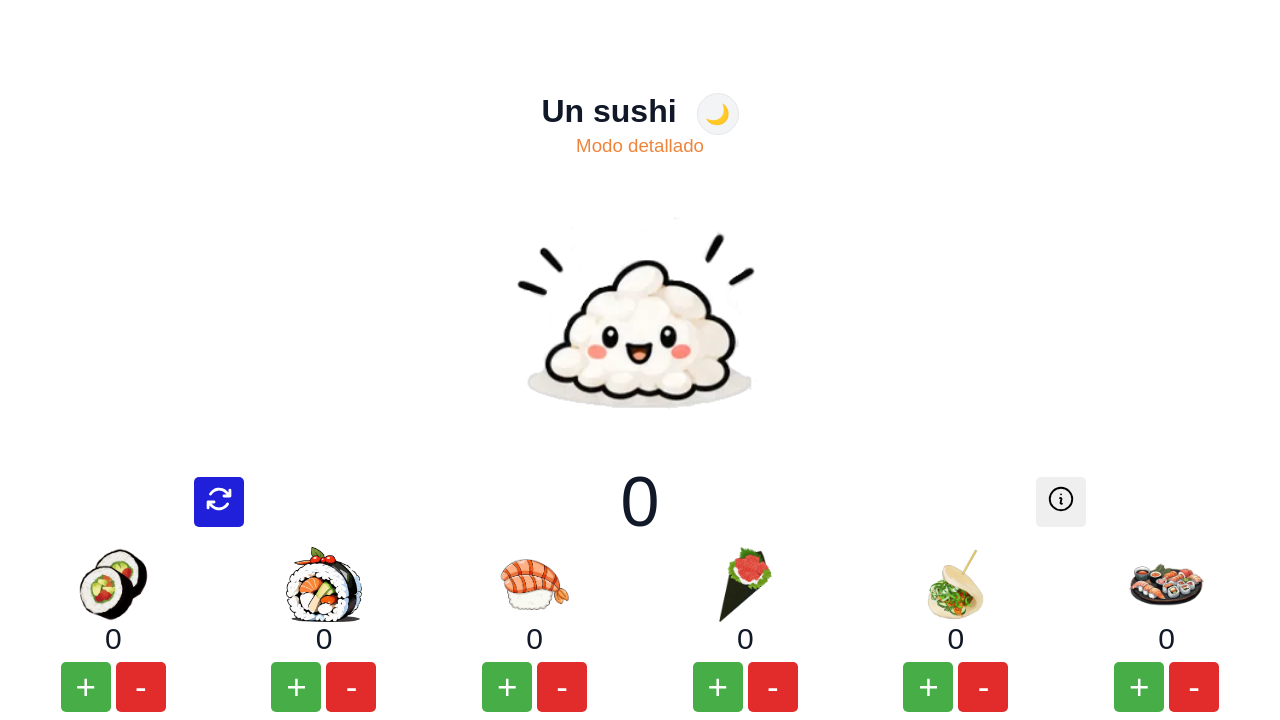
SushiDetailedCounter › should aument counter and niguiri when we pulse add
(page scrolled)
Expected: the 4th text "0" is shown, top-left (526, 622), bottom-right (543, 656)
Click the 3rd button "+" at (507, 687), box top-left (482, 662), bottom-right (532, 712)
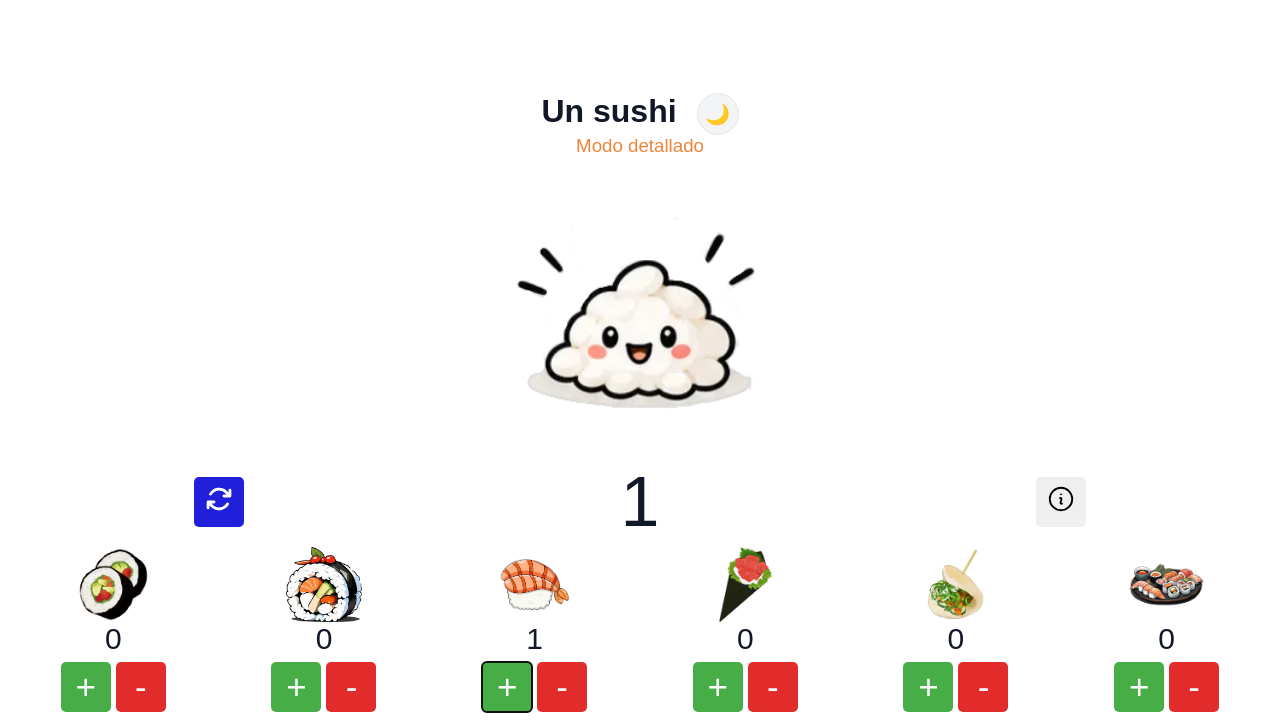
Expected: the text with id "detailed-counter" is shown, top-left (620, 462), bottom-right (659, 542)
Now the text with id "detailed-counter" reads "1", box top-left (620, 463), bottom-right (659, 541)
Click the 3rd button "+" at (507, 687), box top-left (482, 662), bottom-right (532, 712)
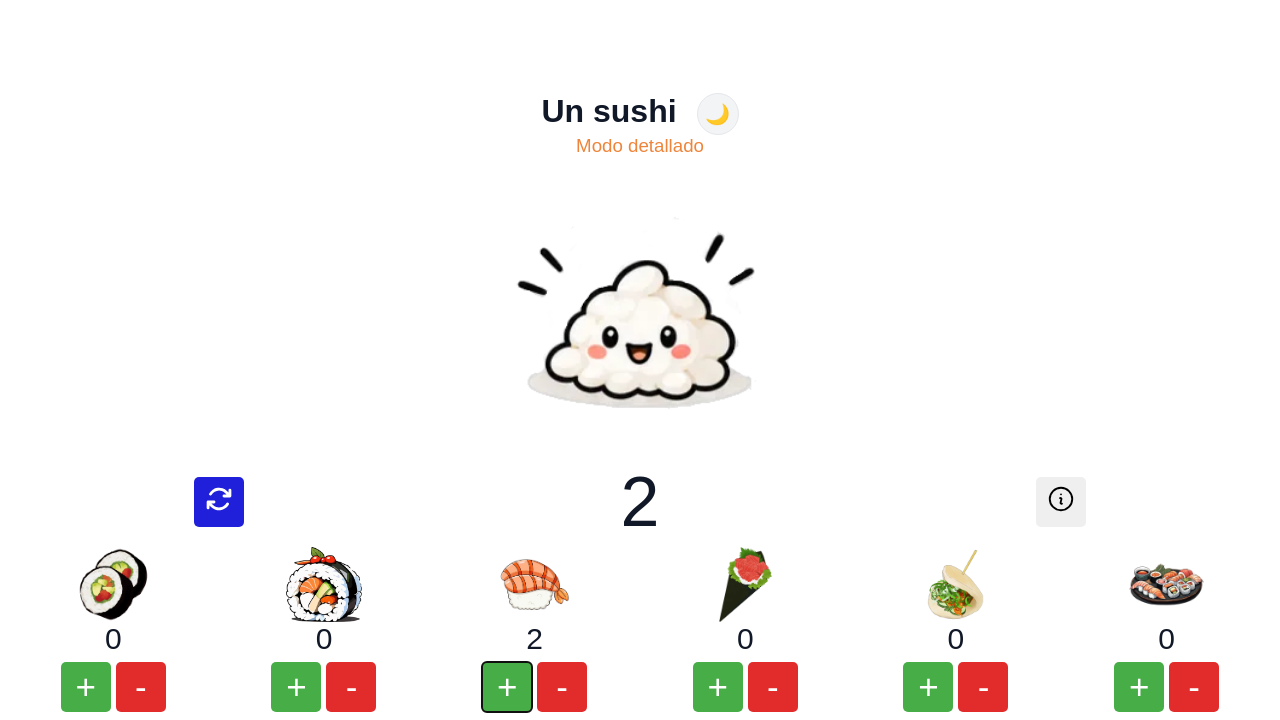
Click the 3rd button "+" at (507, 687), box top-left (482, 662), bottom-right (532, 712)
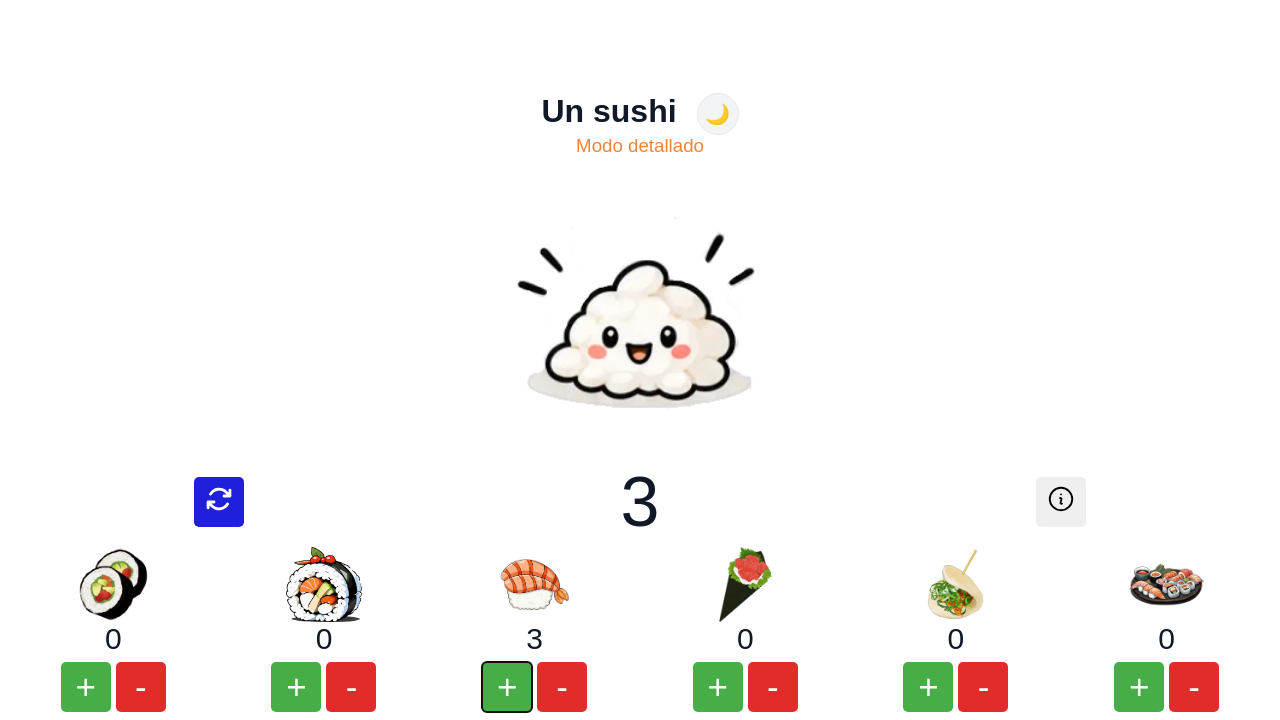
Click the 3rd button "+" at (507, 687), box top-left (482, 662), bottom-right (532, 712)
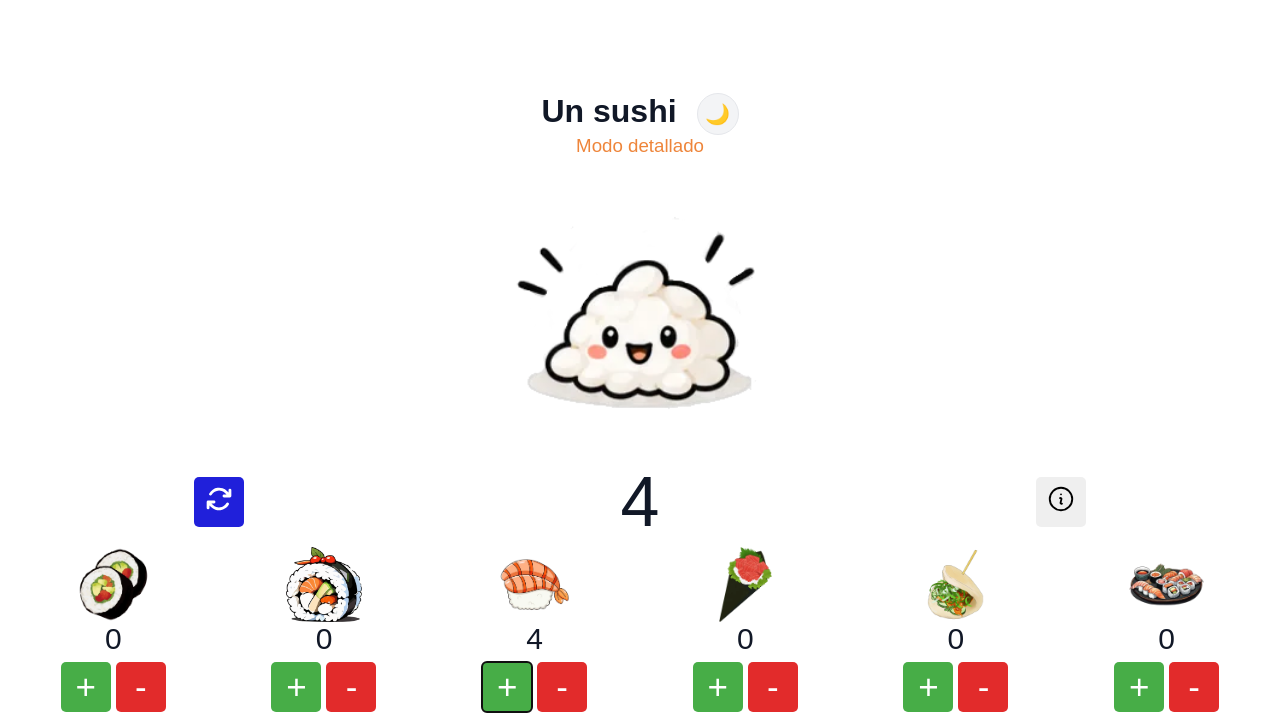
Expected: the text with id "detailed-counter" is shown, top-left (620, 462), bottom-right (659, 542)
Now the text with id "detailed-counter" reads "4", box top-left (620, 463), bottom-right (659, 541)
